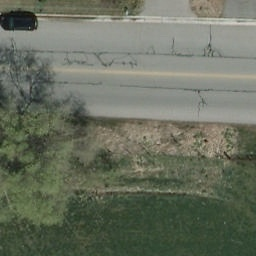car: (1, 14, 41, 30)
